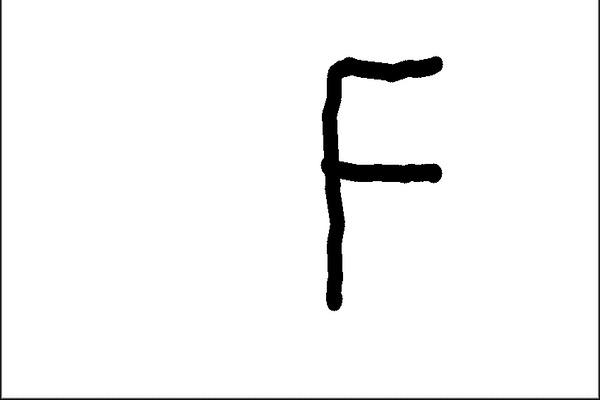F: (315, 52, 448, 313)
